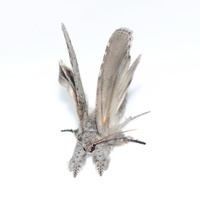insect: (59, 24, 149, 176)
